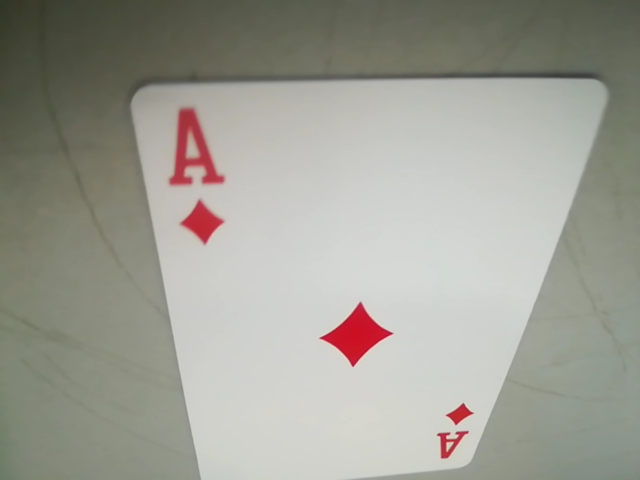fk a: (158, 101, 232, 196), (431, 401, 478, 465)
